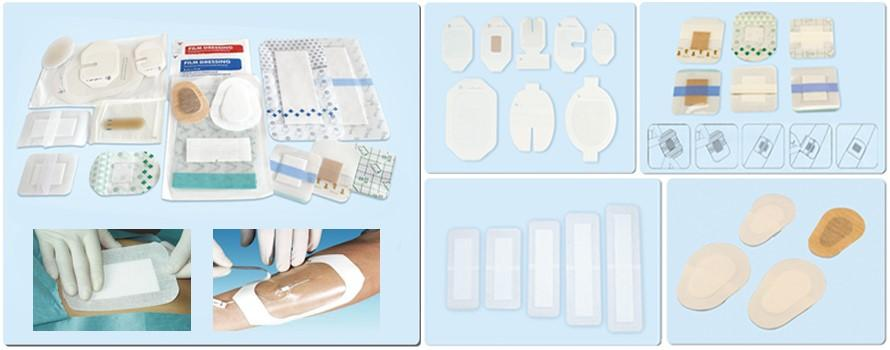bandage: (294, 37, 390, 146), (236, 253, 364, 330), (62, 244, 180, 315), (262, 40, 340, 142), (601, 204, 649, 330), (673, 240, 751, 315), (749, 257, 828, 331), (444, 79, 497, 161), (567, 210, 603, 330), (567, 77, 617, 162), (507, 81, 558, 155), (88, 147, 162, 197), (527, 218, 562, 319), (91, 103, 165, 147), (484, 225, 521, 311), (306, 146, 359, 205), (266, 145, 319, 203), (741, 191, 793, 248), (809, 207, 866, 259), (17, 150, 77, 197), (215, 76, 260, 138), (447, 226, 479, 313), (788, 62, 841, 114), (727, 66, 780, 116), (17, 113, 89, 149), (786, 13, 839, 61), (731, 14, 781, 63), (671, 69, 722, 116), (676, 17, 725, 64), (481, 18, 516, 77), (513, 14, 551, 68), (169, 80, 210, 130), (437, 18, 474, 71), (186, 137, 255, 165), (83, 40, 117, 89), (589, 18, 618, 67), (556, 22, 585, 66), (132, 42, 167, 75), (44, 36, 75, 71)
gloves: (37, 229, 125, 301), (242, 228, 322, 272), (162, 231, 191, 286), (212, 241, 230, 280)
